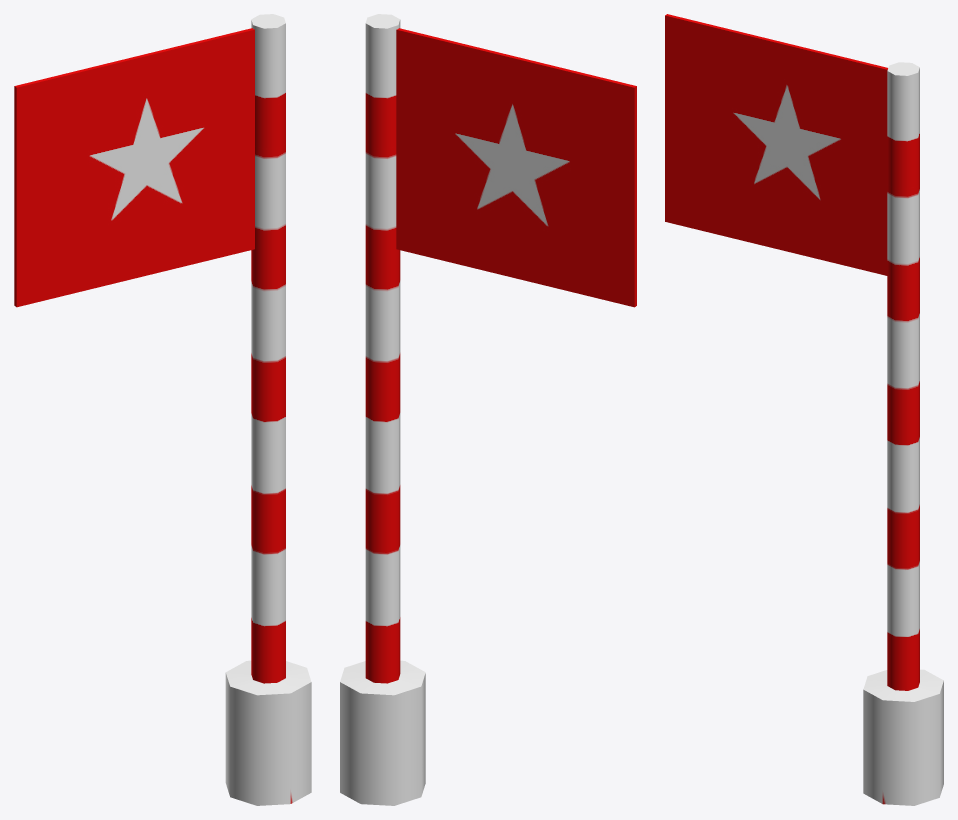
The model's file is Checkpoint.fbx.
3 renders of one model, left to right at view 1: azimuth 30°, elevation 25°; view 2: azimuth 150°, elevation 25°; view 3: azimuth 330°, elevation 25°, orthographic. The views are drawn at different scales.
Parts seen in each view (by area): view 1: Checkpoint; view 2: Checkpoint; view 3: Checkpoint.
Boxes of the visible parts, left/top/right/bottom form: Checkpoint: left=14, top=14, right=311, bottom=805; Checkpoint: left=340, top=14, right=636, bottom=805; Checkpoint: left=665, top=14, right=943, bottom=805.
Bounding box in the file's own units: 0.4658 × 1.17 × 0.1229.
Materials: 1 (1 with a texture image).
